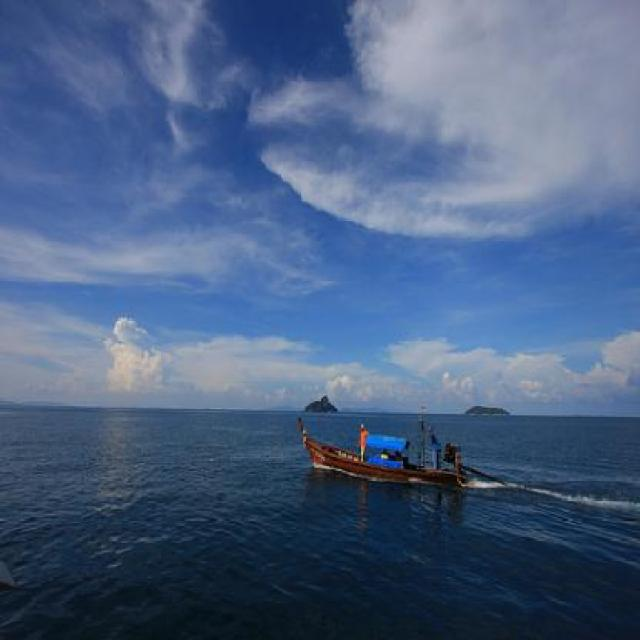ship: (298, 410, 476, 484)
